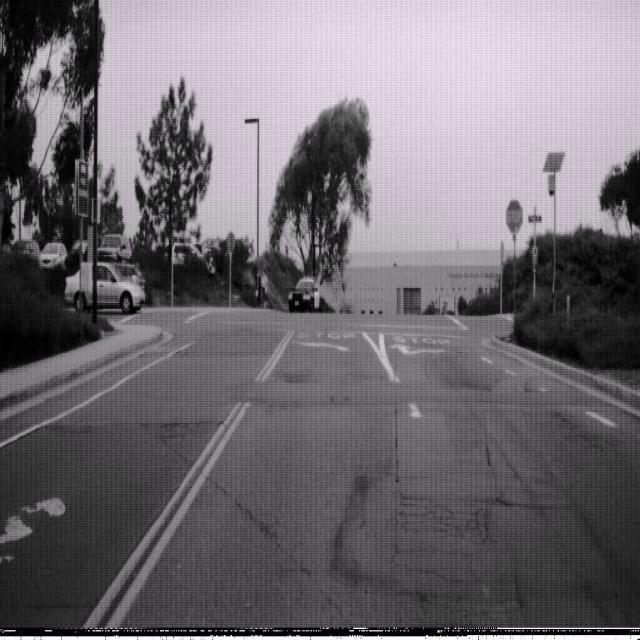stop: (504, 198, 524, 235)
